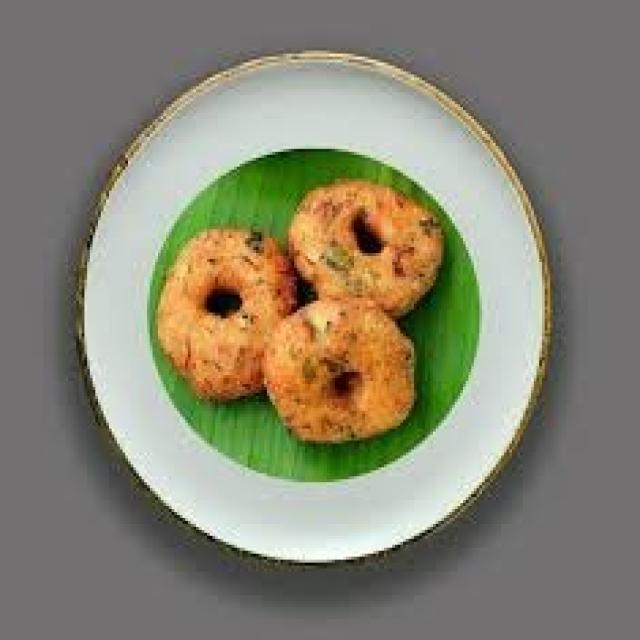medu vadai: (142, 168, 475, 455), (156, 226, 301, 400), (291, 180, 432, 278)
